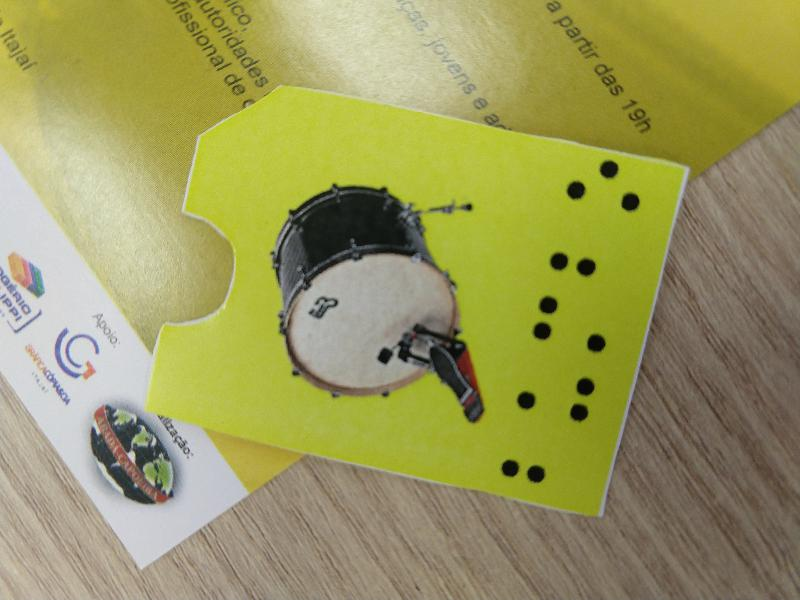bumbo: (141, 74, 690, 531)
